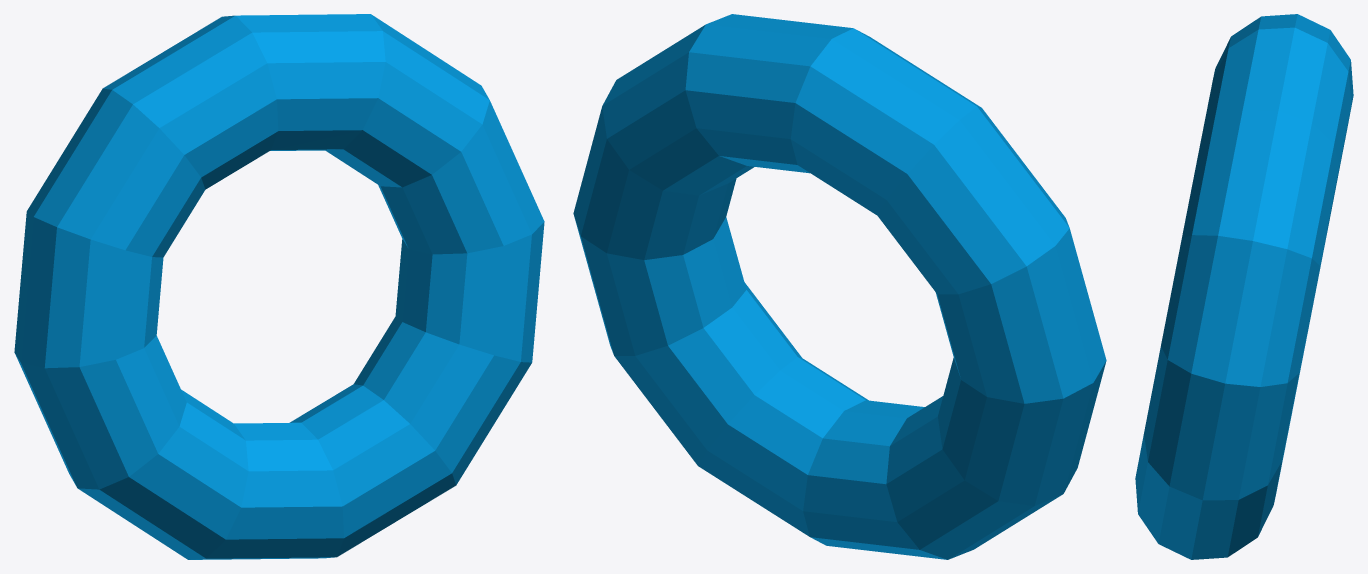
File: astronaut_base_group1753656922_lev4.glb
The picture shows the model from 3 angles, left to right: view 1: azimuth 30°, elevation 25°; view 2: azimuth 150°, elevation 25°; view 3: azimuth 270°, elevation 25°; orthographic projection. The views are drawn at different scales.
Visible parts, largest first — view 1: astronaut_base_group1753656922_lev4; view 2: astronaut_base_group1753656922_lev4; view 3: astronaut_base_group1753656922_lev4.
Boxes of the visible parts, left/top/right/bottom form: astronaut_base_group1753656922_lev4: left=14, top=14, right=544, bottom=559; astronaut_base_group1753656922_lev4: left=573, top=14, right=1106, bottom=559; astronaut_base_group1753656922_lev4: left=1135, top=14, right=1353, bottom=559.
Bounding box in the file's own units: 0.0684 × 0.0675 × 0.0266.
